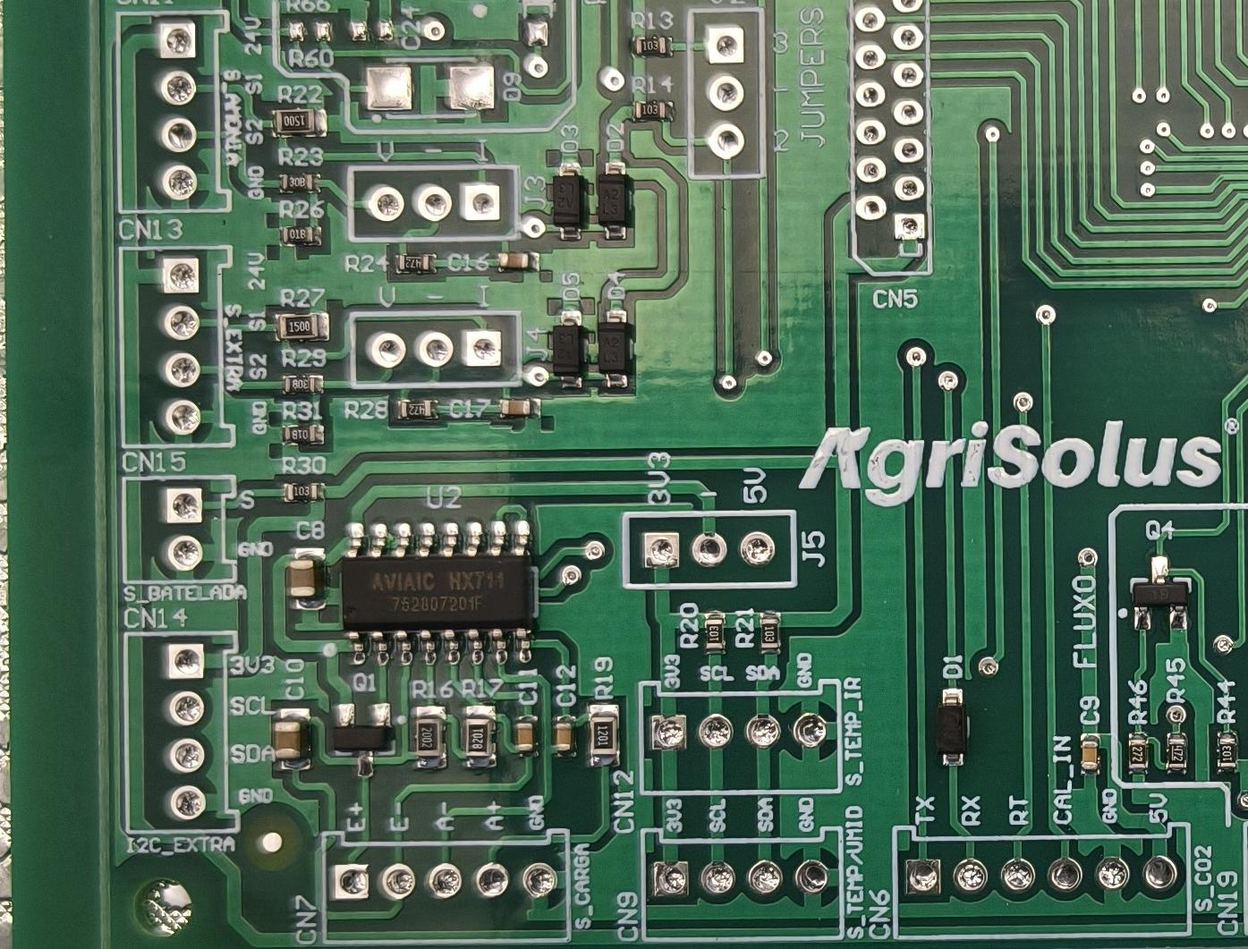C+: (286, 544, 330, 622), (267, 709, 310, 772), (493, 391, 539, 421), (1078, 733, 1106, 776), (492, 249, 540, 274), (514, 714, 540, 756), (551, 711, 574, 756)
R+: (587, 702, 623, 771), (460, 698, 495, 767), (409, 706, 447, 766), (265, 104, 331, 135), (275, 310, 335, 343), (391, 244, 441, 280), (278, 476, 326, 510), (630, 31, 677, 64), (631, 93, 677, 123), (278, 225, 325, 252), (1162, 731, 1189, 778), (399, 391, 439, 422), (284, 423, 329, 449), (279, 169, 321, 196), (1215, 727, 1240, 772), (280, 371, 325, 395), (1127, 735, 1152, 775), (760, 606, 782, 650), (700, 608, 723, 650)
R/CFaltante: (343, 16, 393, 44), (286, 18, 336, 43)
U+: (339, 514, 547, 669)
